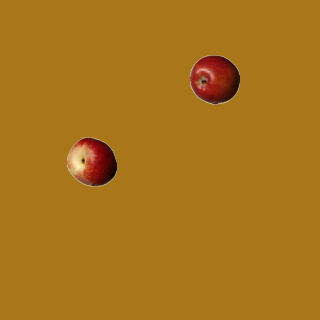Apple Braeburn: (189, 54, 239, 104)
Nectarine: (66, 136, 116, 186)
